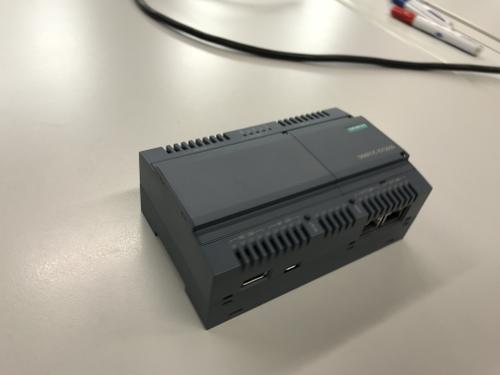device: (138, 107, 432, 331)
